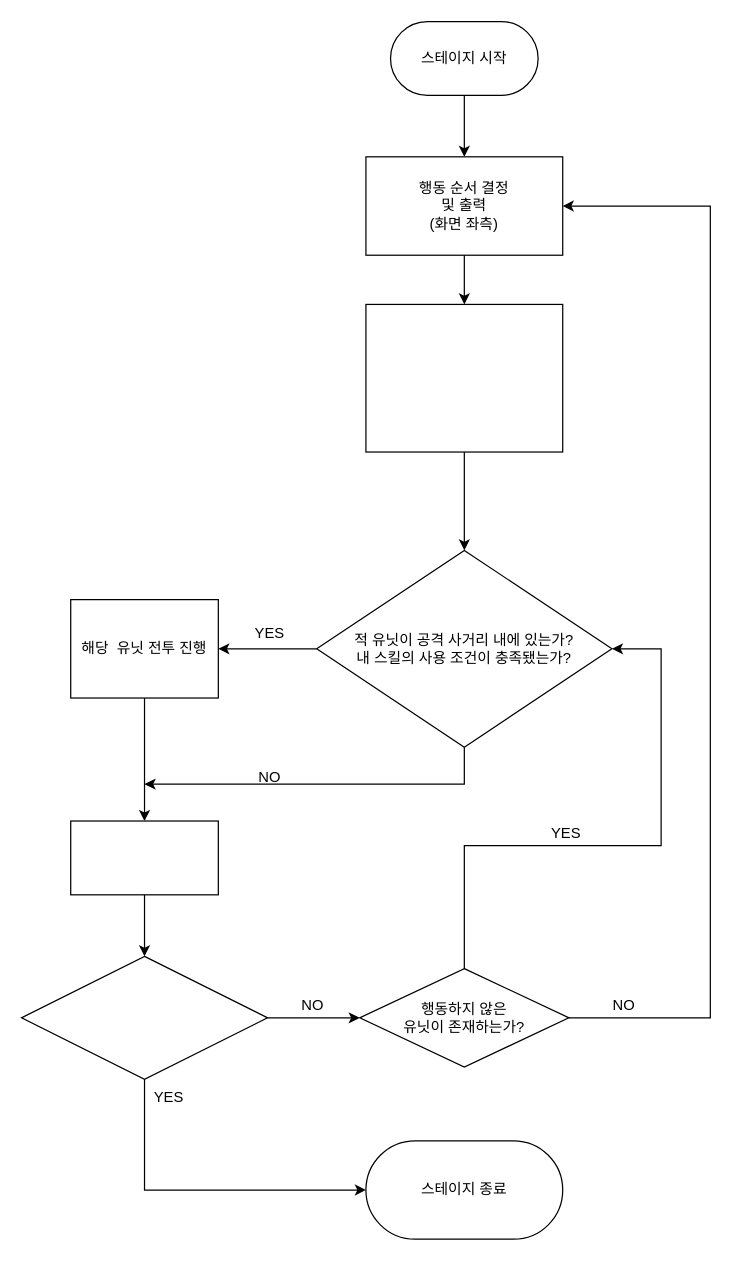
The diagram is 742 pixels wide and 1261 high, and some of its shapes have lost their labels. The shapes that lost their labels are listed below. From the top down, each one's centre as x and y in pixels, then its label:
point (464, 377): 유저 행동 선택 단계 (1)캐릭터 이동, 스킬 사용 (2)전장 조작 (3)특별 행동 X
point (143, 857): 조건 확인 후 적 유닛 퇴각
point (144, 1017): 전멸한 팀이 있는가?
